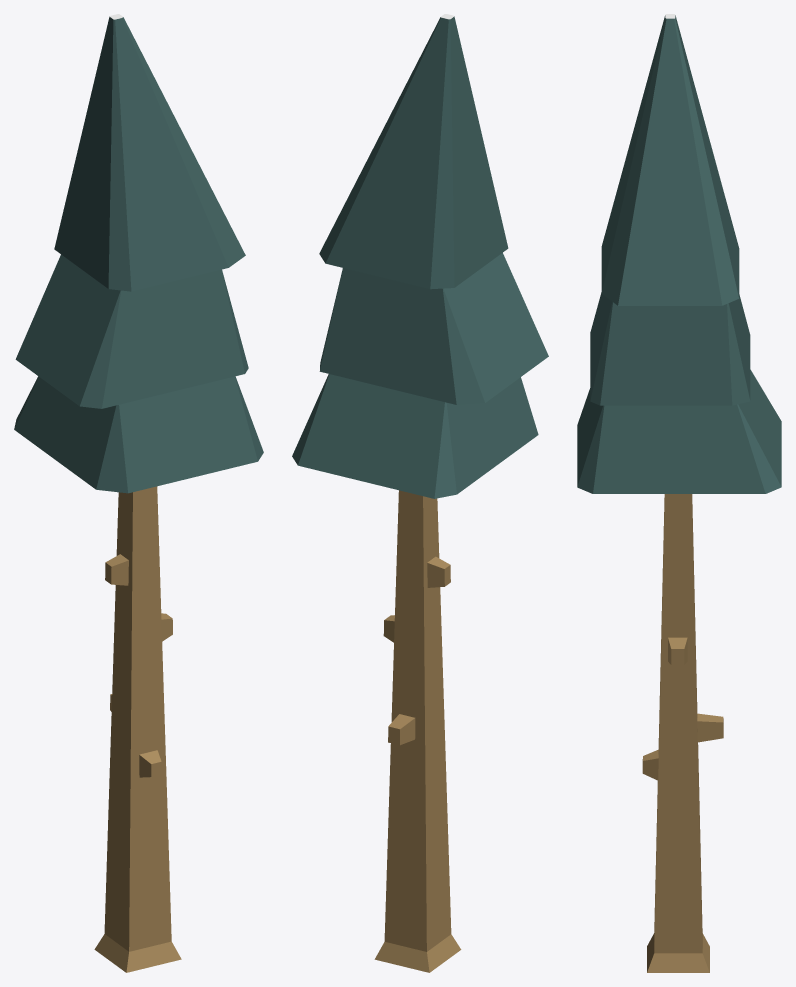
File: naturePack_165.obj
3 renders of one model, left to right at view 1: azimuth 30°, elevation 25°; view 2: azimuth 150°, elevation 25°; view 3: azimuth 270°, elevation 25°, orthographic.
Parts seen in each view (by area): view 1: Mesh1_Group1_Model.081; view 2: Mesh1_Group1_Model.081; view 3: Mesh1_Group1_Model.081.
Part boxes in pixels (bbox=[...]): Mesh1_Group1_Model.081: bbox=[14, 14, 263, 972]; Mesh1_Group1_Model.081: bbox=[292, 14, 548, 972]; Mesh1_Group1_Model.081: bbox=[577, 14, 781, 972].
Bounding box in the file's own units: 1.55 × 7.88 × 1.57.
